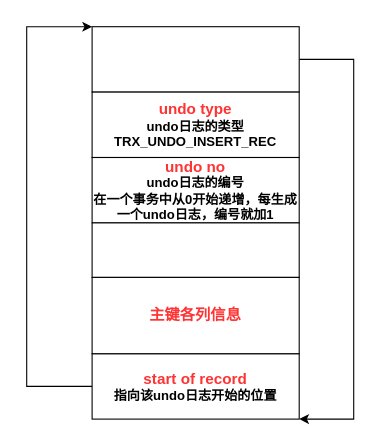
The diagram is 382 pixels wide and 447 high, and some of its shapes have lost their labels. The box of each missing label's shape, as (x1, y1, x2, y2) in pixels:
end of record 指向该undo日志结束的位置: (91, 26, 299, 92)
table id undo日志对应的记录所在表的id: (91, 222, 299, 277)
